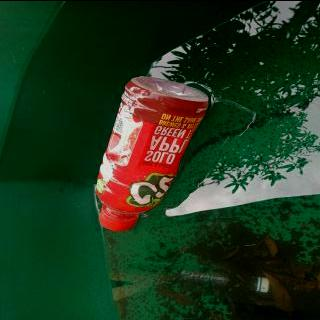bottle: (94, 73, 211, 232)
